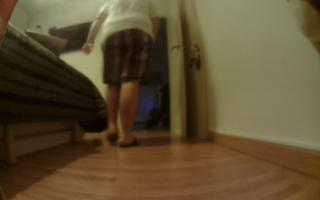person: (83, 1, 164, 151)
